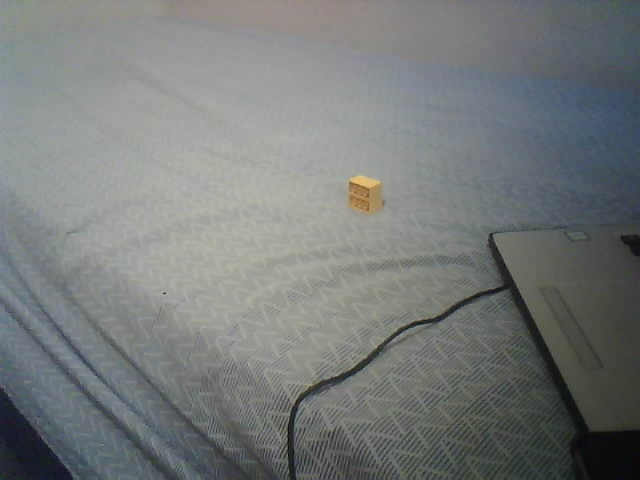lego: (345, 175, 384, 215)
